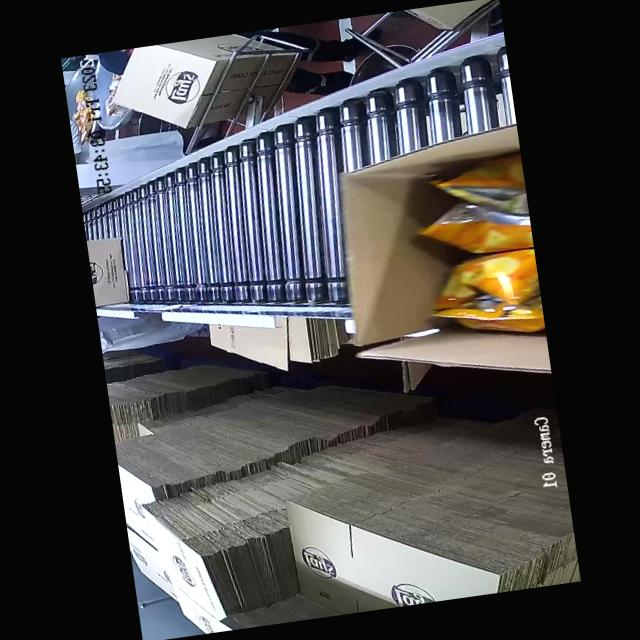cheese: (421, 162, 546, 352)
